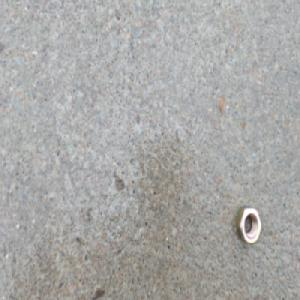Nut: (235, 203, 262, 245)
